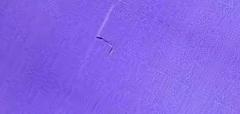snag: (93, 32, 117, 56)
